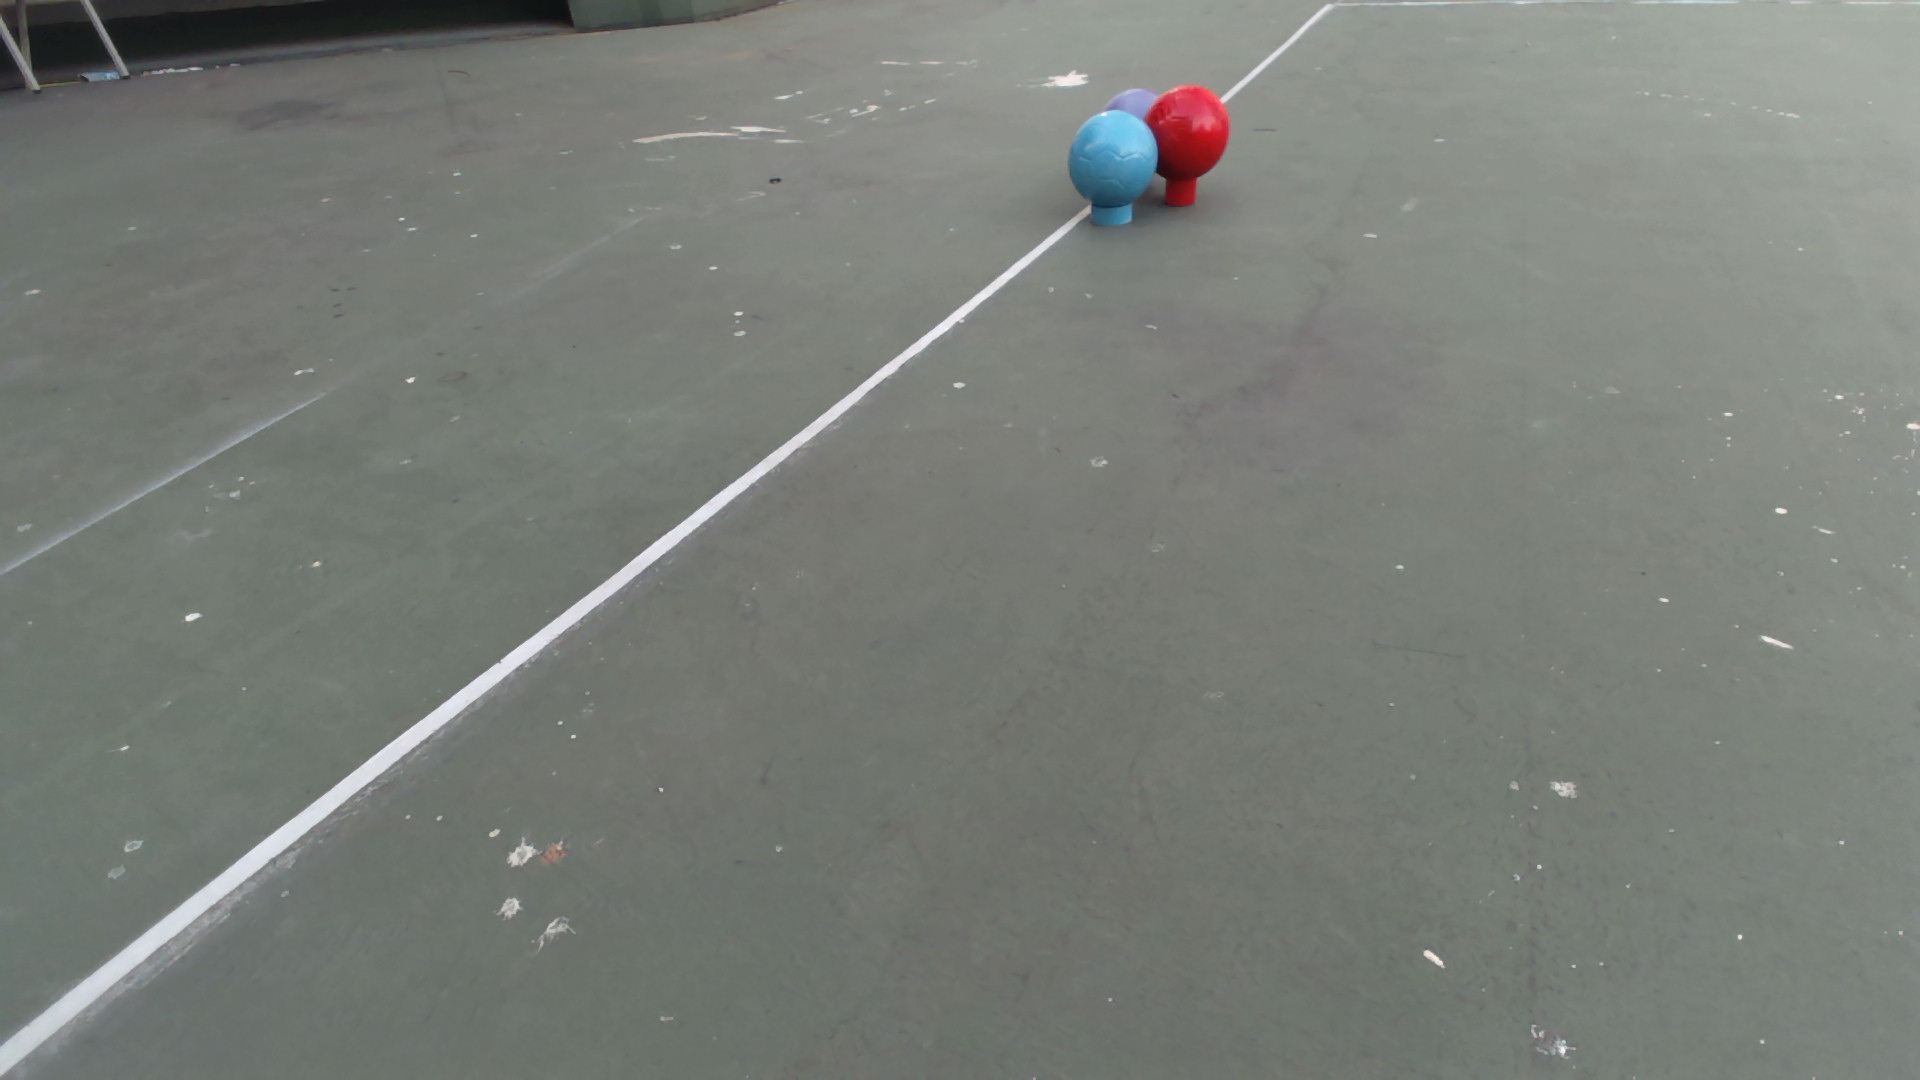Blue ball: (1065, 108, 1160, 210)
Red ball: (1145, 83, 1232, 182)
